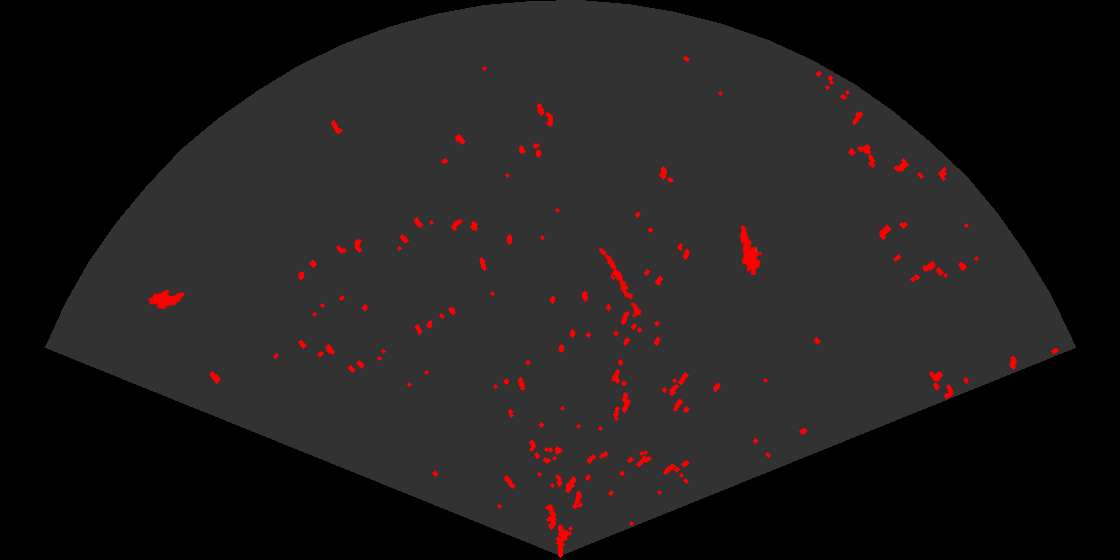AUV: (146, 288, 187, 311)
chain: (597, 246, 644, 319)
frogman: (738, 224, 764, 275)
